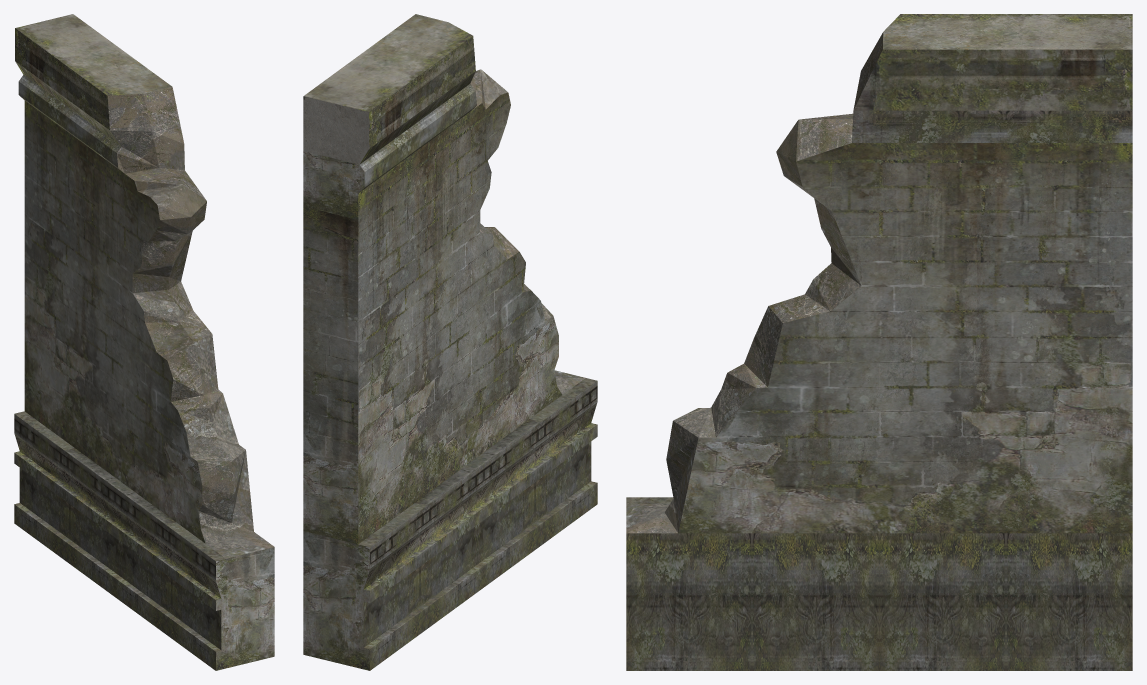
The model's file is bg_lut_lucastle_brosewall01b_sm_psy.FBX.
3 renders of one model, left to right at view 1: azimuth 30°, elevation 25°; view 2: azimuth 150°, elevation 25°; view 3: azimuth 270°, elevation 25°, orthographic. The views are drawn at different scales.
Visible parts, largest first — view 1: bg_lut_lucastle_brosewall01b_sm_psy; view 2: bg_lut_lucastle_brosewall01b_sm_psy; view 3: bg_lut_lucastle_brosewall01b_sm_psy.
Part boxes in pixels (left/top/right/bottom): bg_lut_lucastle_brosewall01b_sm_psy: left=14, top=14, right=274, bottom=670; bg_lut_lucastle_brosewall01b_sm_psy: left=303, top=14, right=597, bottom=670; bg_lut_lucastle_brosewall01b_sm_psy: left=626, top=14, right=1132, bottom=670.
Bounding box in the file's own units: 64.75 × 520 × 384.
